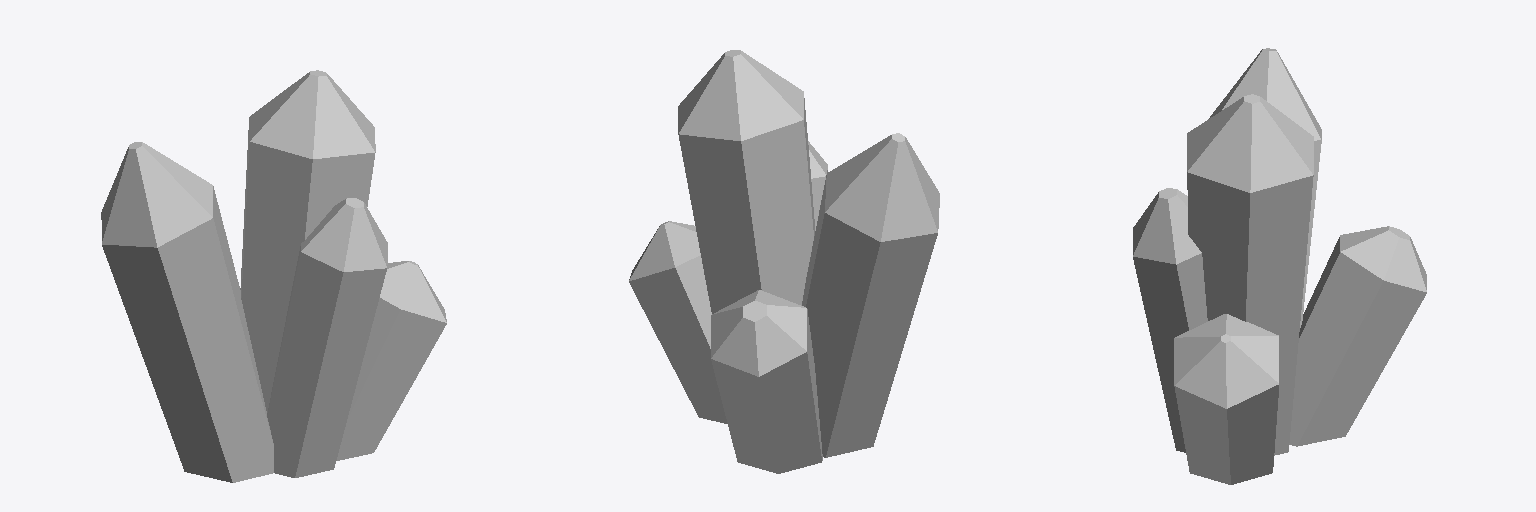
The model's file is firecrystal.obj.
3 views of the same model, side by side, from view 1: azimuth 30°, elevation 25°; view 2: azimuth 150°, elevation 25°; view 3: azimuth 270°, elevation 25° (orthographic).
Parts seen in each view (by area): view 1: Crystal_Customizer1; view 2: Crystal_Customizer1; view 3: Crystal_Customizer1.
Boxes of the visible parts, x1,y1,x2,y2 form: Crystal_Customizer1: [101, 70, 446, 482]; Crystal_Customizer1: [629, 50, 939, 473]; Crystal_Customizer1: [1133, 48, 1426, 484].
Size of the model in its own units: 0.8488 by 0.9085 by 0.6672.